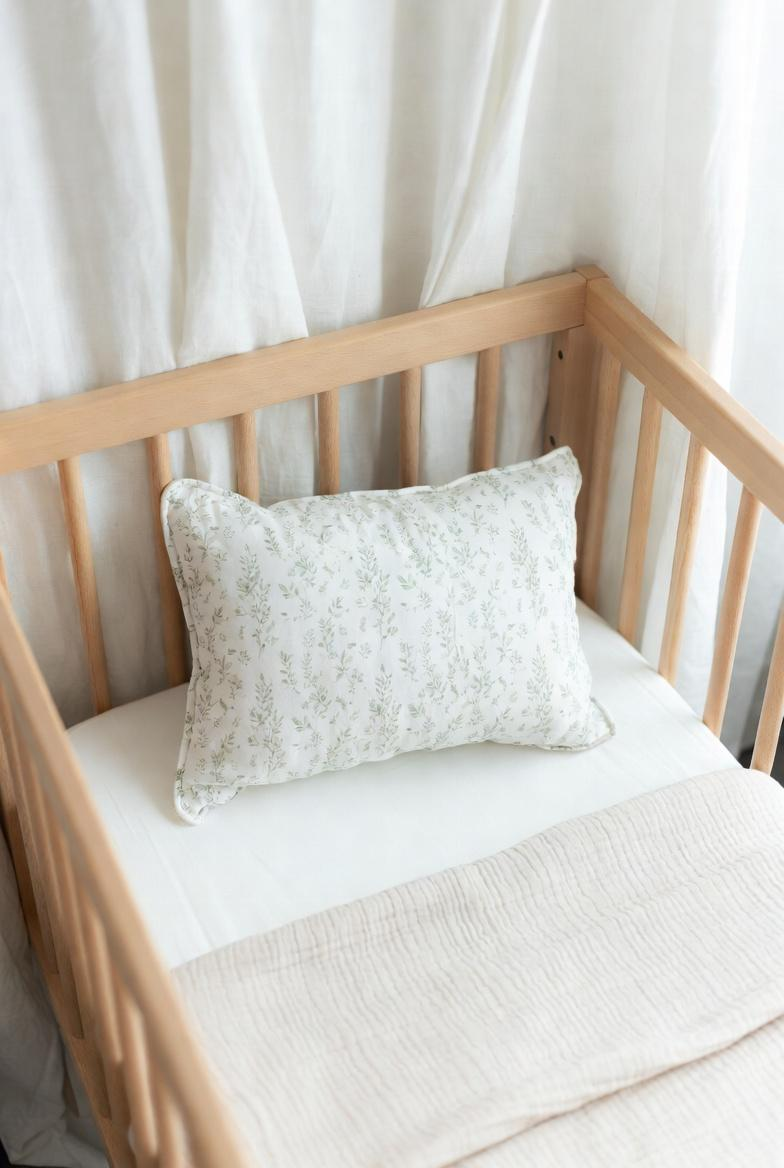crib: (0, 267, 784, 1168)
